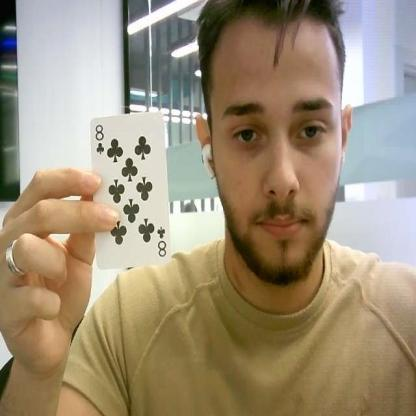8C: (93, 123, 105, 155), (156, 226, 166, 258)
